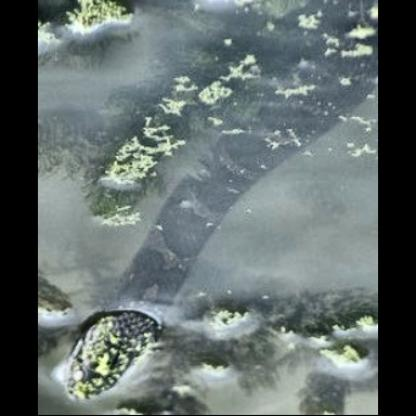Snake: (45, 125, 250, 416)
